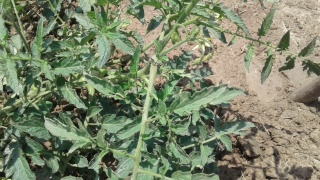tomato flower: (187, 29, 215, 54)
tomato plant: (3, 3, 118, 170), (123, 78, 214, 177)
